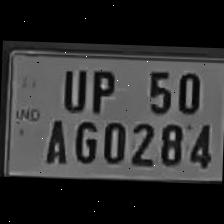0: (170, 66, 204, 115), (98, 118, 127, 164)
2: (125, 117, 155, 167)
4: (183, 117, 213, 169)
5: (141, 65, 173, 114)
8: (154, 118, 184, 168)
A: (39, 114, 69, 166)
G: (69, 116, 99, 166)
P: (84, 62, 118, 114)
U: (56, 63, 89, 112)
